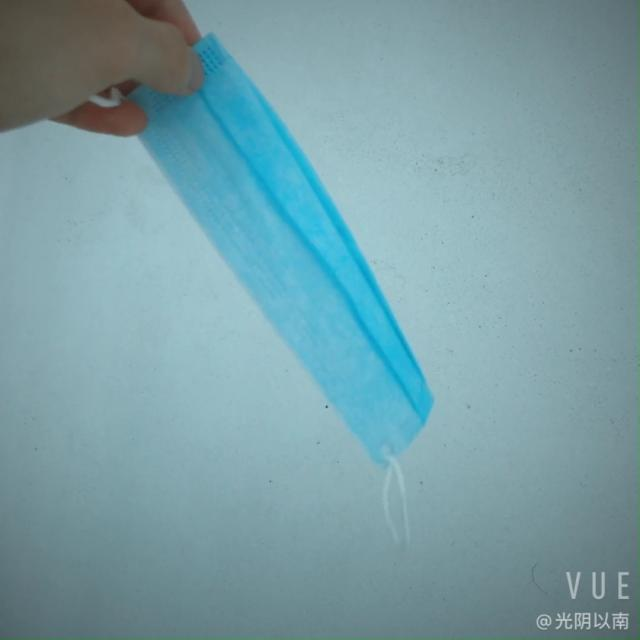non-organic waste: (107, 34, 440, 485)
